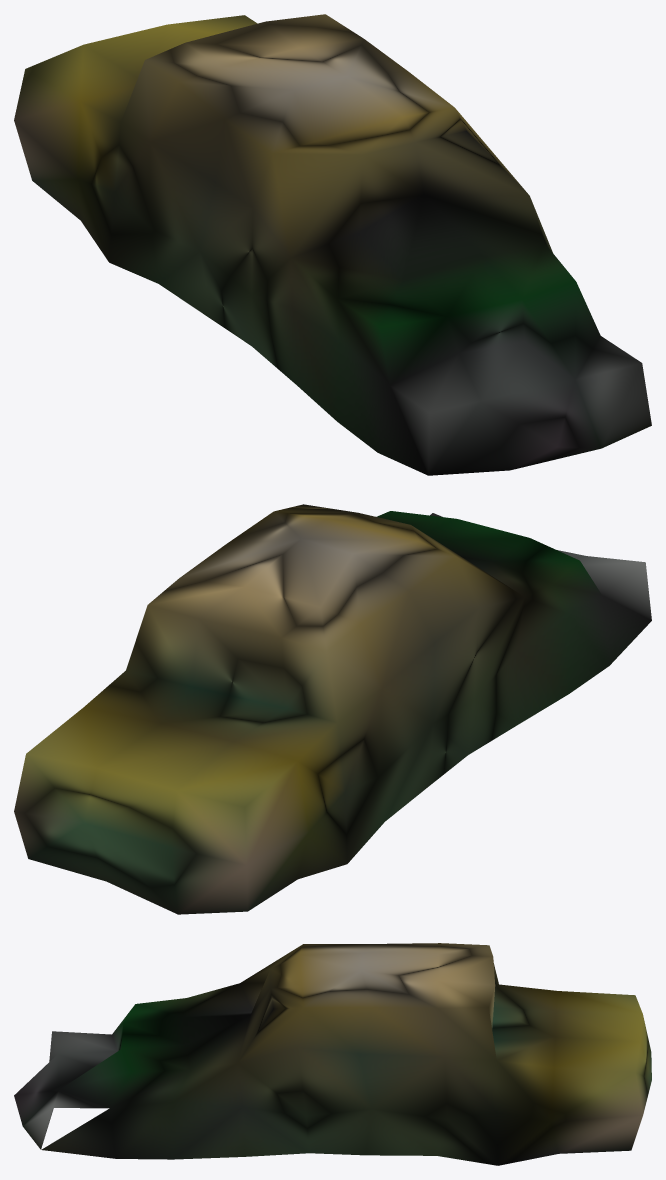
Rendered from city_taxi.2.glb.
The picture shows the model from 3 angles, top to bottom: view 1: azimuth 30°, elevation 25°; view 2: azimuth 150°, elevation 25°; view 3: azimuth 270°, elevation 25°; orthographic projection. The views are drawn at different scales.
Parts seen in each view (by area): view 1: lod; view 2: lod; view 3: lod.
Boxes of the visible parts, x1,y1,x2,y2 form: lod: [14, 14, 651, 475]; lod: [14, 504, 651, 914]; lod: [14, 943, 651, 1165].
Size of the model in its own units: 0.3119 by 0.2736 by 0.98.
